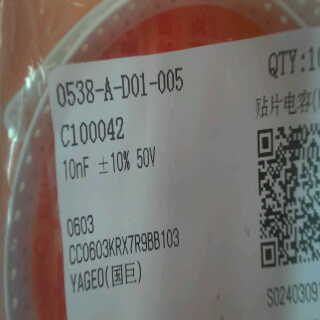10nF: (59, 154, 95, 186)
